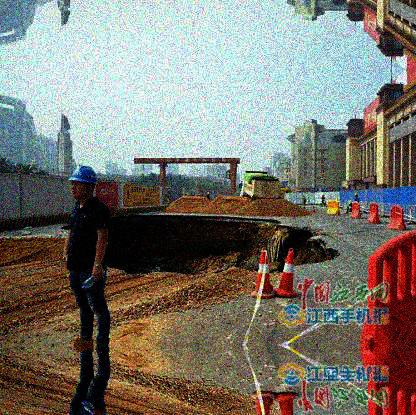helmet: (67, 164, 96, 198)
